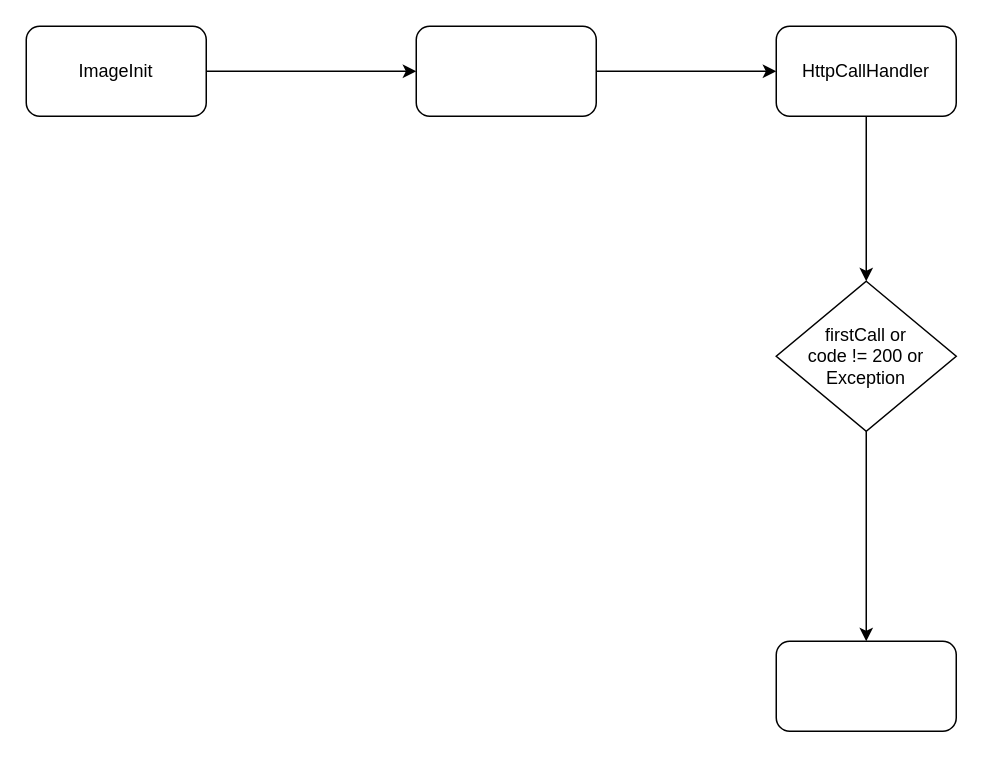
The diagram is 983 pixels wide and 758 high, and some of its shapes have lost their labels. The shapes that lost their labels are listed below. From the top down, each one's centre as x and y in pixels, then its label:
At [505,70]: "NetworkManager".
At [865,685]: "HttpCall".
